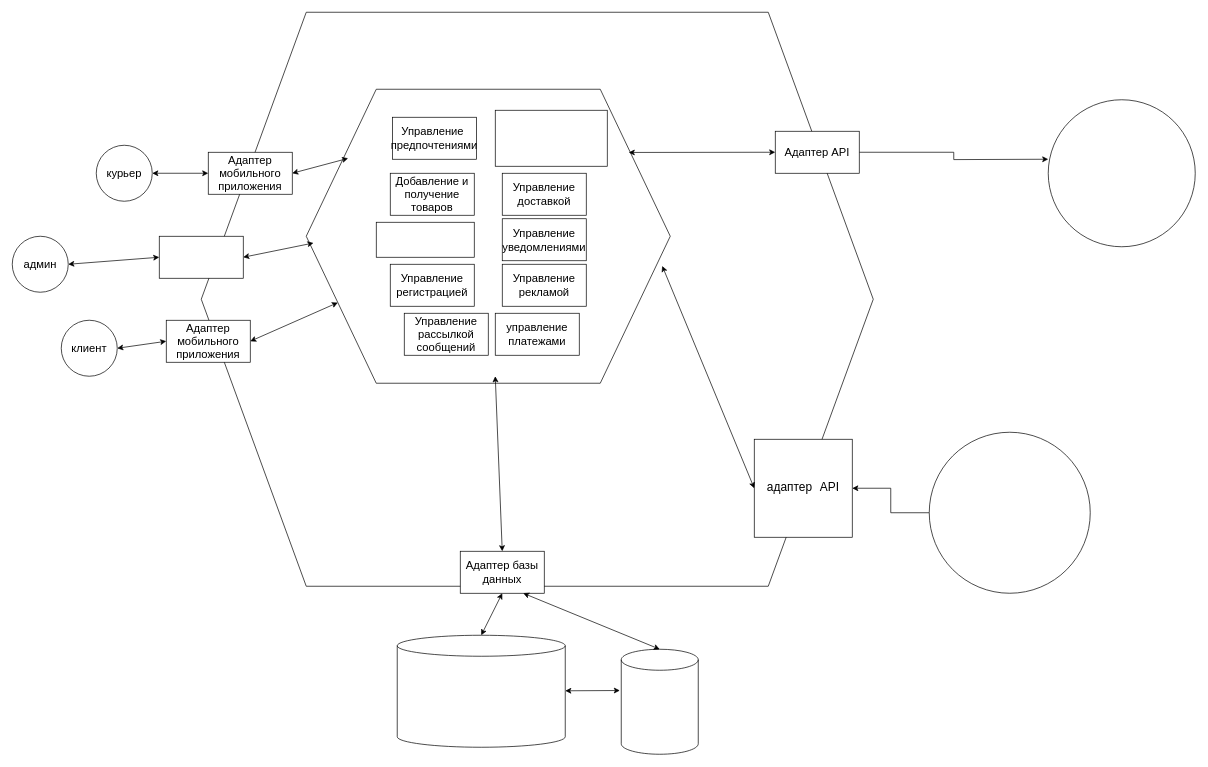
Image size: 1208x767. Some labels were removed from this diagram. Here are the shapes that lost their labels. From the top down, the centre of each, then its label:
At point 551,138: "Администрирование".
At point 1121,173: "VK \".
At point 201,257: "адаптер десктопного приложения".
At point 425,239: "Управление аутентификацией и авторизацией".
At point 1009,512: "Umoney".
At point 481,691: "PostgreSQL".
At point 659,701: "File System".
